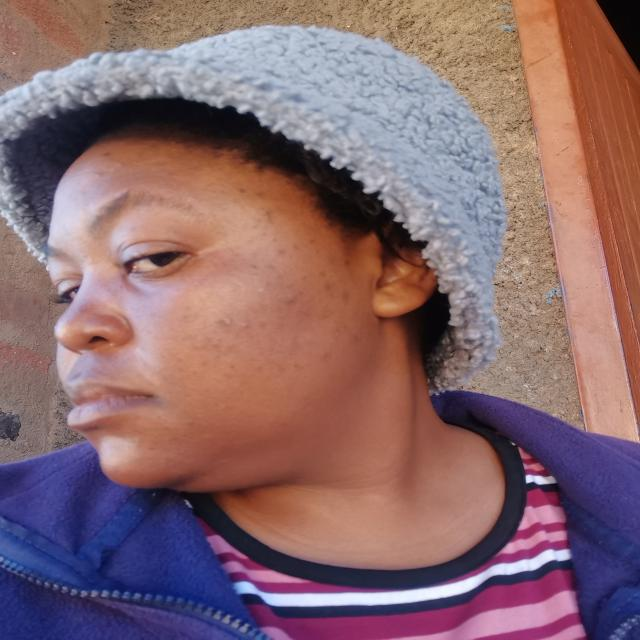Acne: (261, 264, 303, 308), (315, 268, 351, 304), (182, 335, 227, 356), (248, 350, 283, 373), (330, 322, 362, 346), (89, 162, 128, 177), (210, 310, 237, 331), (314, 347, 335, 363), (237, 187, 262, 200), (272, 243, 288, 258), (259, 210, 275, 225), (97, 148, 118, 158), (238, 319, 255, 331), (223, 362, 238, 370), (182, 419, 197, 427), (304, 238, 316, 246)
